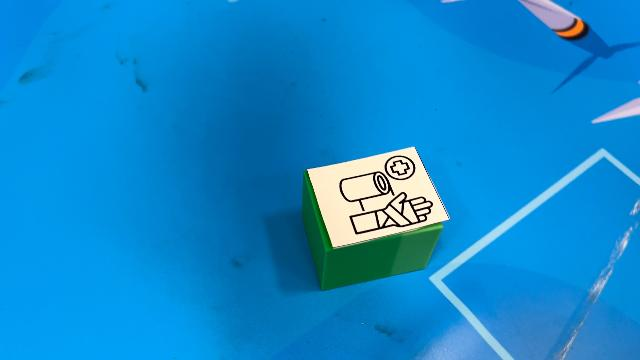bandage: (303, 145, 451, 291)
